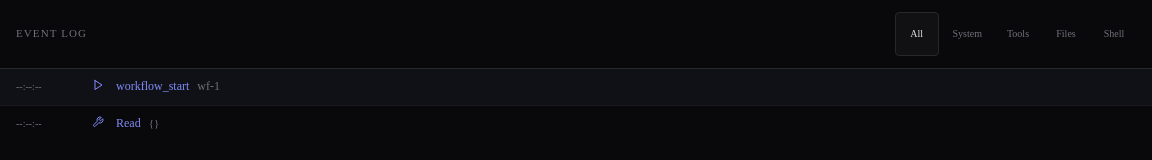
EventStream › filters to system events only
// Click "System" filter
Click the button "System" at (967, 34), box [942,12,992,56]
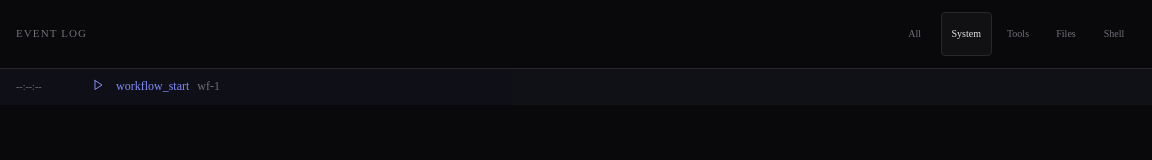
Expected: the text "workflow_start" is shown, [116,79,189,93]
Expected: the text "Read" is gone
